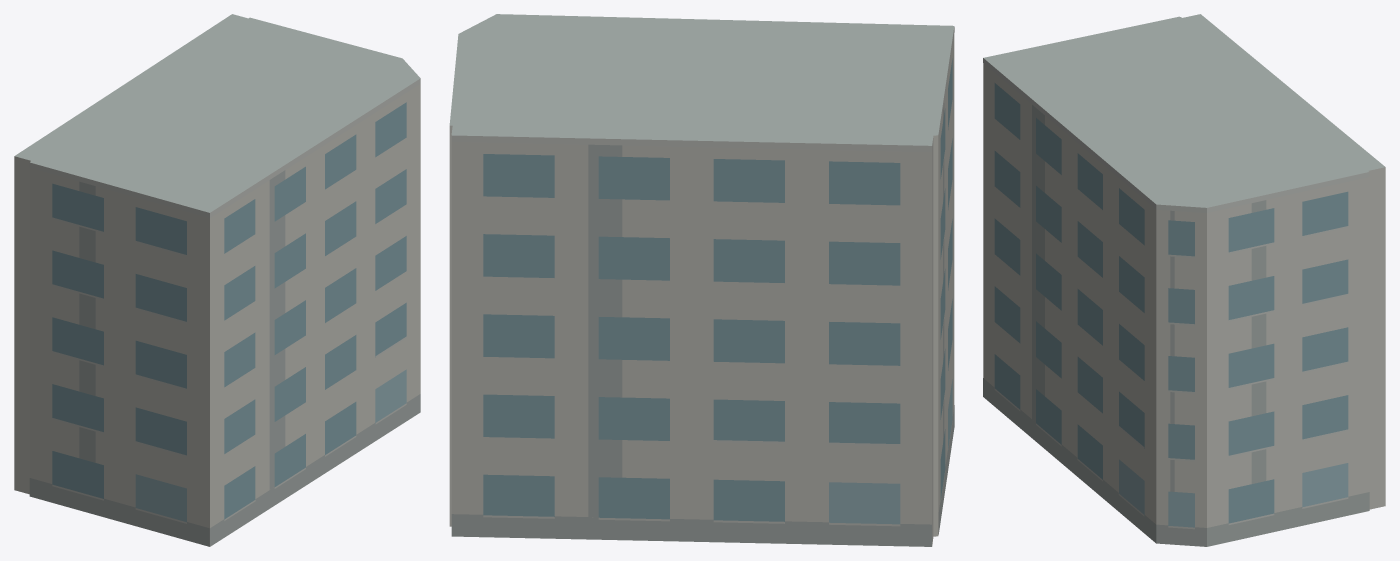
The model's file is survey-upis-33023121.glb.
The picture shows the model from 3 angles, left to right: view 1: azimuth 30°, elevation 25°; view 2: azimuth 150°, elevation 25°; view 3: azimuth 270°, elevation 25°; orthographic projection. The views are drawn at different scales.
Visible parts, largest first — view 1: survey-upis-33023121.tmp; view 2: survey-upis-33023121.tmp; view 3: survey-upis-33023121.tmp.
Part boxes in pixels (box(x1,y1,x2,y2)): survey-upis-33023121.tmp: box(14, 14, 420, 546); survey-upis-33023121.tmp: box(449, 14, 954, 546); survey-upis-33023121.tmp: box(983, 14, 1385, 546).
Bounding box in the file's own units: 19.14 × 15.6 × 16.79.
